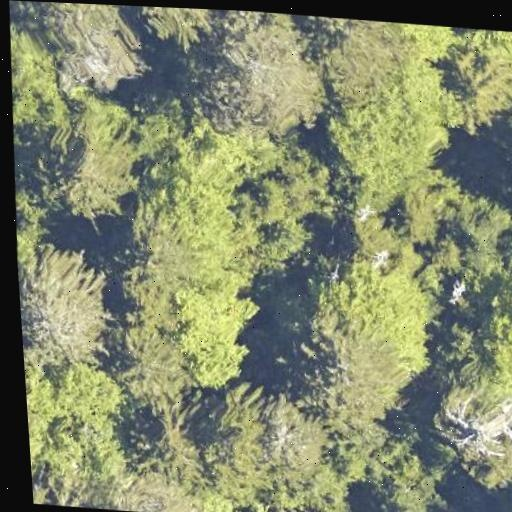tree-top: (322, 95, 446, 219), (187, 22, 326, 130), (38, 90, 148, 222), (24, 353, 134, 484), (232, 144, 347, 265), (16, 244, 117, 372), (168, 269, 263, 403), (289, 315, 398, 429), (331, 424, 452, 512), (307, 258, 436, 338), (140, 136, 234, 244), (426, 372, 512, 490), (47, 2, 149, 100), (301, 15, 400, 99), (192, 391, 272, 488), (435, 193, 512, 277), (109, 323, 191, 395), (5, 21, 58, 130), (440, 42, 512, 118), (390, 22, 460, 100), (125, 6, 220, 60), (258, 461, 357, 512), (256, 397, 326, 469), (94, 467, 194, 512), (475, 263, 512, 373), (496, 509, 512, 512)
